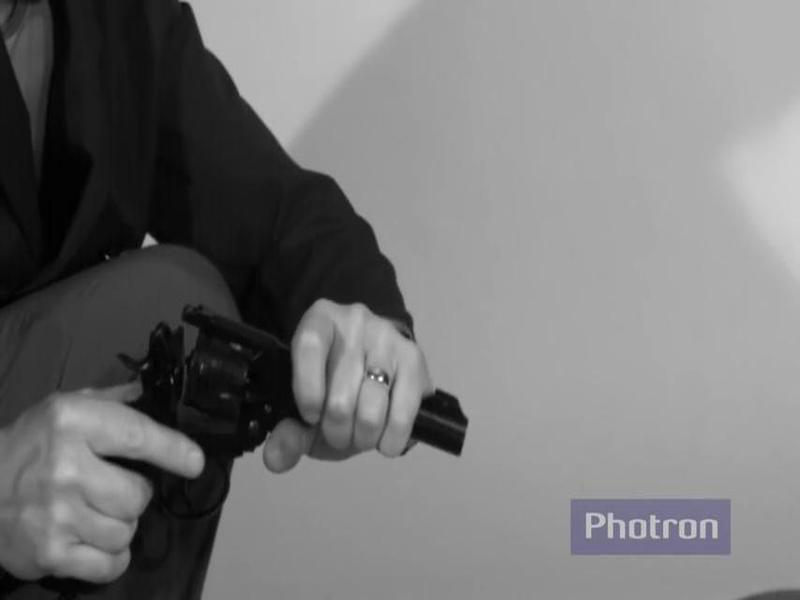Revolver: (70, 290, 497, 543)
